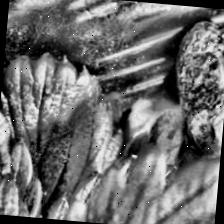Gray Mold: (168, 17, 224, 170)
